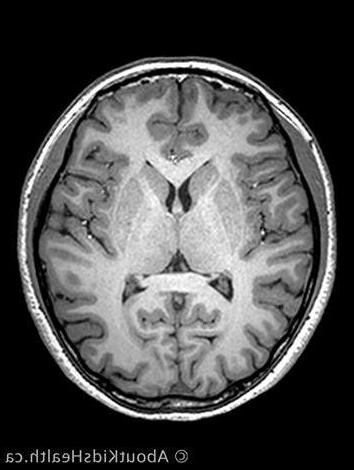Normal_Brain: (1, 2, 354, 470)
